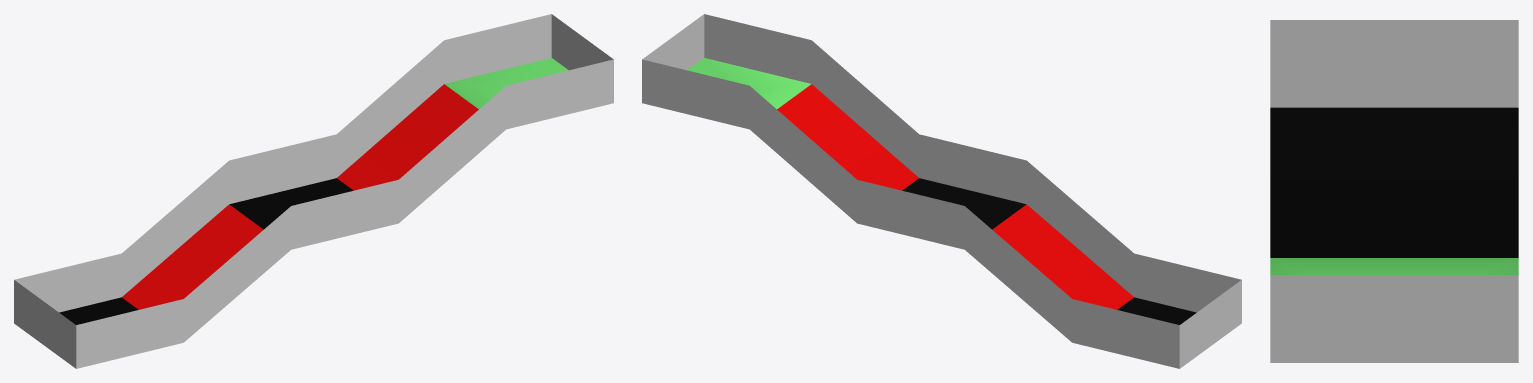
The model's file is map2.fbx.
The picture shows the model from 3 angles, left to right: view 1: azimuth 30°, elevation 25°; view 2: azimuth 150°, elevation 25°; view 3: azimuth 270°, elevation 25°; orthographic projection. The views are drawn at different scales.
Parts seen in each view (by area): view 1: pPlane4; view 2: pPlane4; view 3: pPlane4.
Part boxes in pixels (x1=…): pPlane4: x1=14, y1=14, x2=613, y2=368; pPlane4: x1=642, y1=14, x2=1241, y2=368; pPlane4: x1=1270, y1=20, x2=1518, y2=362.
Bounding box in the file's own units: 50 × 15.85 × 10.
